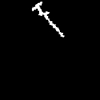double_crochet: (32, 2, 63, 36)
